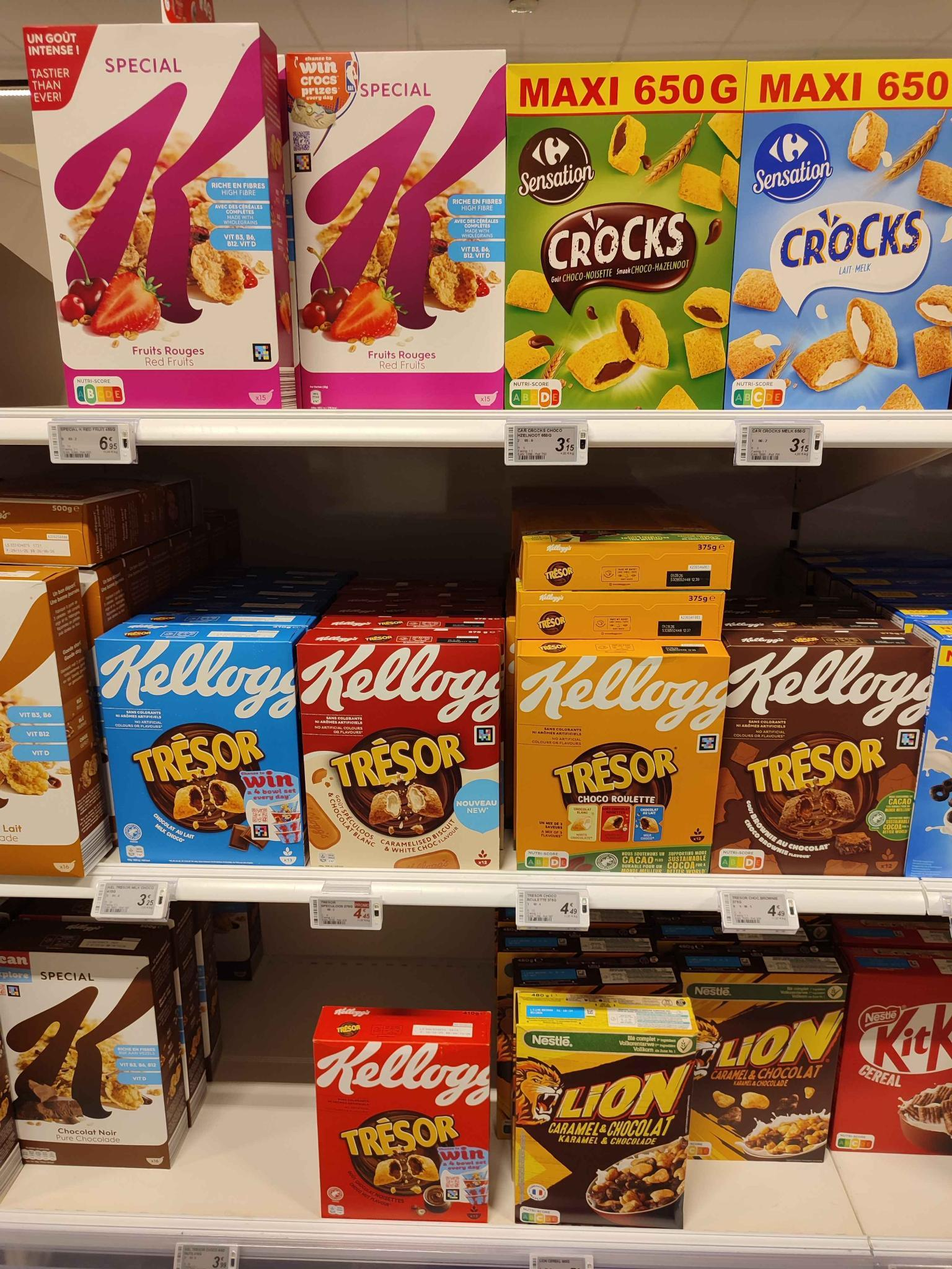nutri_B: (74, 379, 125, 403)
nutri_C: (734, 380, 785, 406), (837, 1132, 880, 1151), (521, 1208, 564, 1226), (687, 1139, 712, 1157)
nutri_D: (510, 381, 564, 407), (720, 848, 767, 872), (524, 851, 566, 869)
shelf_bottom: (2, 908, 952, 1257)
shelf_middle: (1, 450, 952, 893)
shelf_top: (0, 0, 952, 434)
